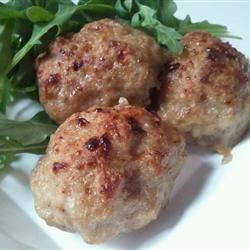chopped lettuce: (1, 1, 56, 171)
meatballs: (44, 113, 174, 233), (168, 32, 250, 152), (42, 34, 163, 112)
